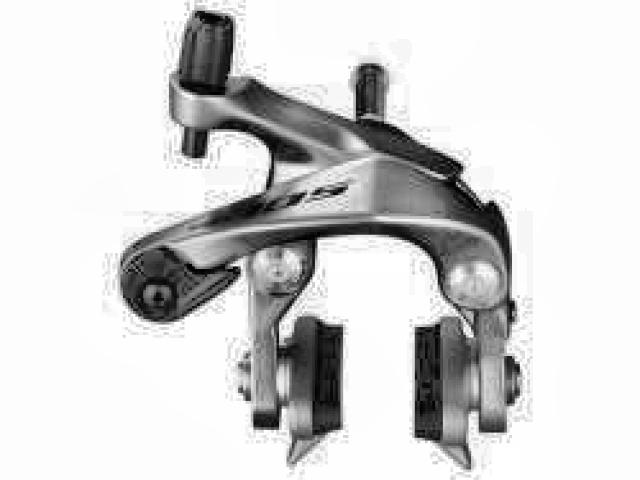rim_brake: (114, 11, 523, 477)
